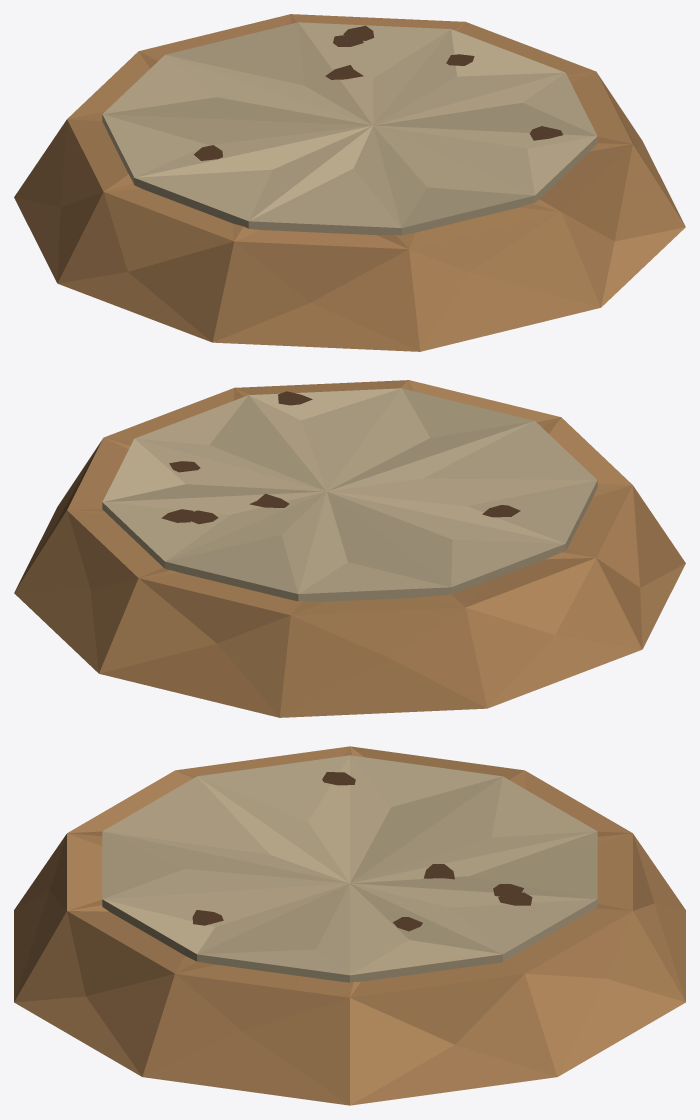
The model's file is food_bread_lepeshka_idle.glb.
The picture shows the model from 3 angles, top to bottom: view 1: azimuth 30°, elevation 25°; view 2: azimuth 150°, elevation 25°; view 3: azimuth 270°, elevation 25°; orthographic projection. The views are drawn at different scales.
Visible parts, largest first — view 1: food_bread_lepeshka_idle; view 2: food_bread_lepeshka_idle; view 3: food_bread_lepeshka_idle.
Boxes of the visible parts, bbox=[...] form: food_bread_lepeshka_idle: bbox=[14, 14, 685, 351]; food_bread_lepeshka_idle: bbox=[14, 380, 685, 717]; food_bread_lepeshka_idle: bbox=[14, 746, 685, 1105].
Size of the model in its own units: 0.19 by 0.0305 by 0.1807.
Materials: 1 (1 with a texture image).
